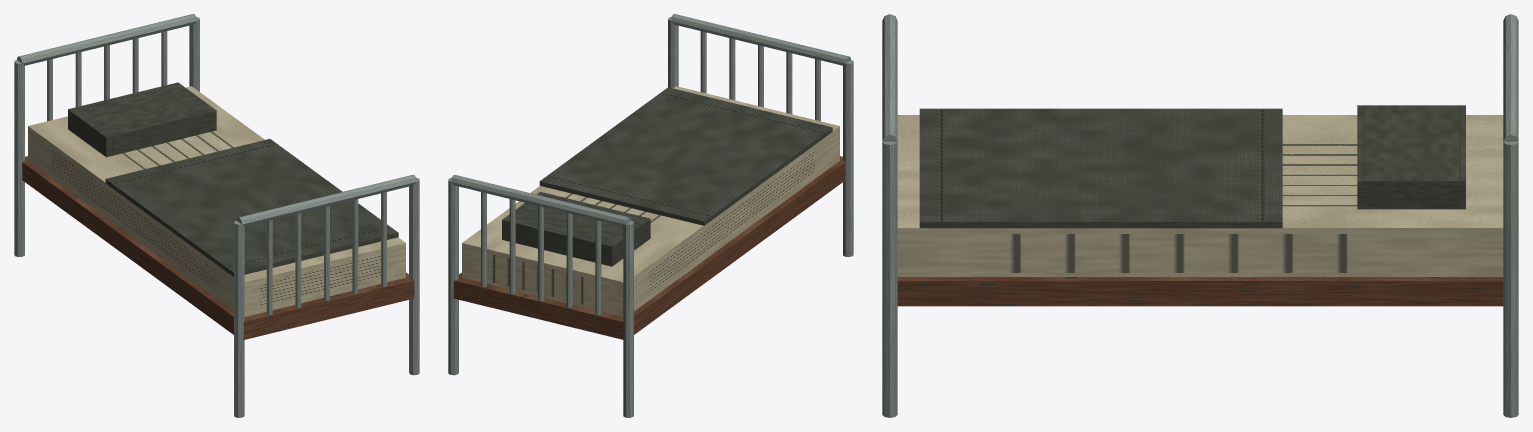
File: HospitalBed.obj
3 views of the same model, side by side, from view 1: azimuth 30°, elevation 25°; view 2: azimuth 150°, elevation 25°; view 3: azimuth 270°, elevation 25° (orthographic). The views are drawn at different scales.
Parts seen in each view (by area): view 1: HospitalBed; view 2: HospitalBed; view 3: HospitalBed.
Part boxes in pixels (x1=…): HospitalBed: x1=14, y1=14, x2=419, y2=417; HospitalBed: x1=448, y1=14, x2=853, y2=417; HospitalBed: x1=882, y1=14, x2=1518, y2=417.
Size of the model in its own units: 0.97 by 0.995 by 2.05.
Materials: 4 (4 with a texture image).
